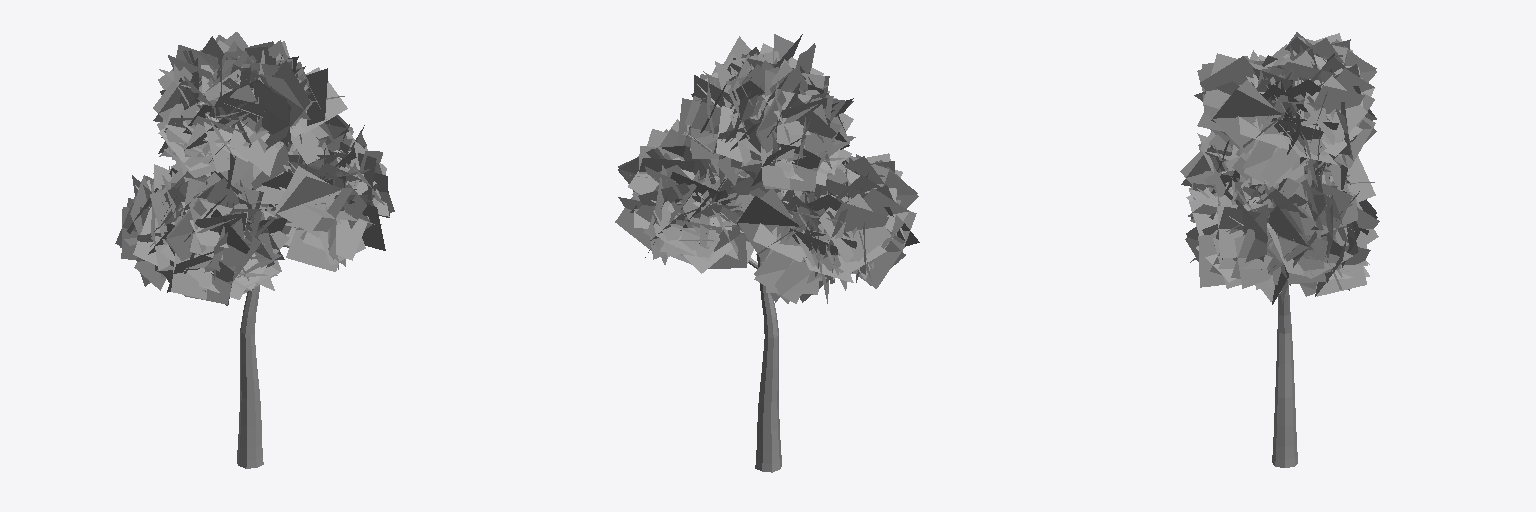
The model's file is BirchTree_4.obj.
3 views of the same model, side by side, from view 1: azimuth 30°, elevation 25°; view 2: azimuth 150°, elevation 25°; view 3: azimuth 270°, elevation 25° (orthographic).
Visible parts, largest first — view 1: BirchTree_4_Cube.008; view 2: BirchTree_4_Cube.008; view 3: BirchTree_4_Cube.008.
Boxes of the visible parts, x1=… form: BirchTree_4_Cube.008: x1=115, y1=32, x2=394, y2=468; BirchTree_4_Cube.008: x1=615, y1=34, x2=919, y2=472; BirchTree_4_Cube.008: x1=1180, y1=32, x2=1379, y2=467.
Size of the model in its own units: 2.78 by 4.21 by 1.84.